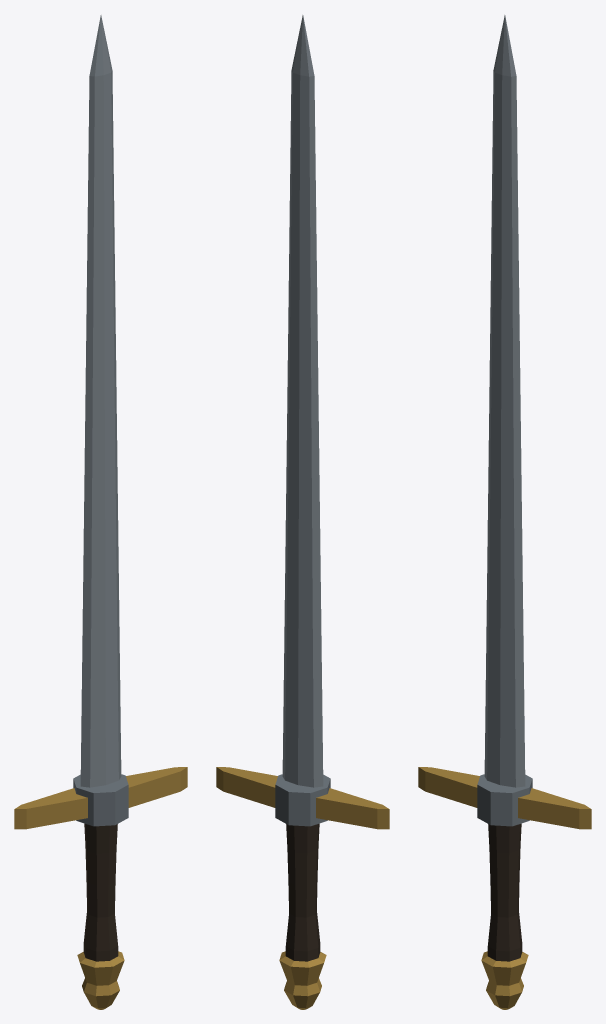
File: Sword.glb
3 views of the same model, side by side, from view 1: azimuth 30°, elevation 25°; view 2: azimuth 150°, elevation 25°; view 3: azimuth 330°, elevation 25° (orthographic).
Visible parts, largest first — view 1: Sword; view 2: Sword; view 3: Sword.
Part boxes in pixels (x1=…): Sword: x1=14, y1=15, x2=187, y2=1009; Sword: x1=216, y1=15, x2=389, y2=1009; Sword: x1=418, y1=15, x2=591, y2=1009.
Size of the model in its own units: 0.2021 by 1.11 by 0.0576.
Materials: 1 (1 with a texture image).
